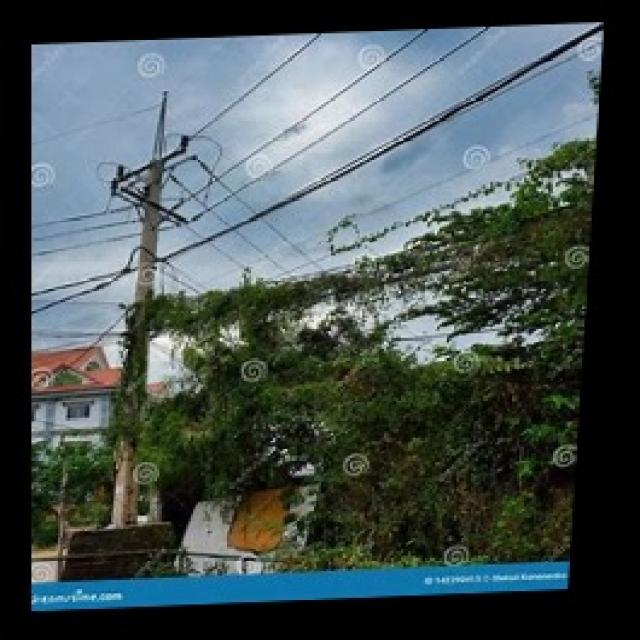critical vegetation: (150, 250, 580, 390)
